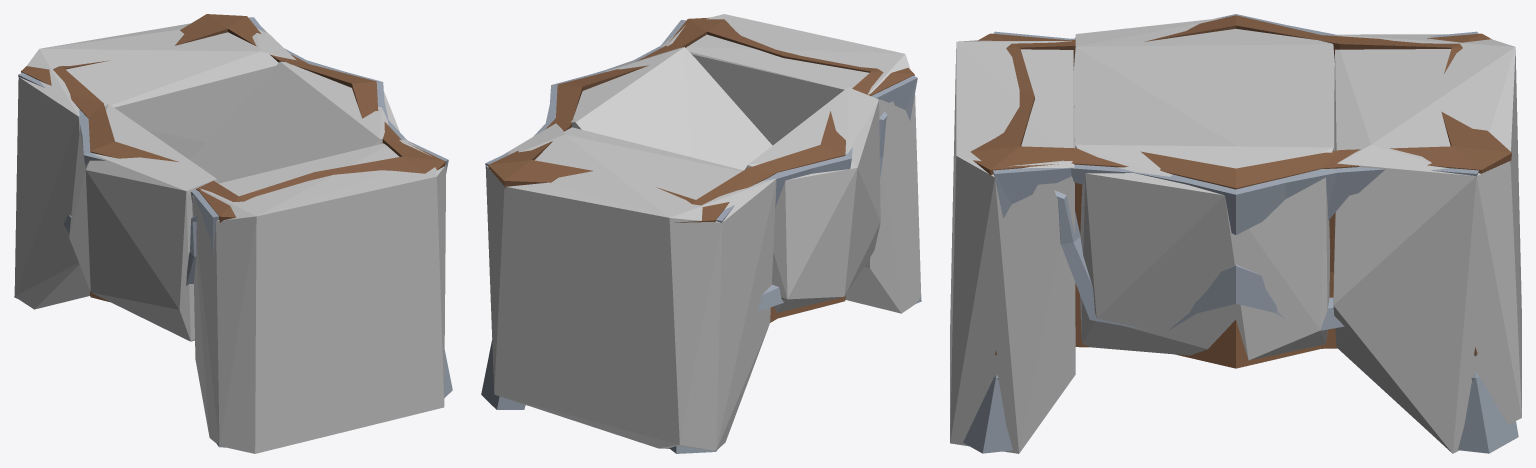
File: SM_Prop_Jewellery_Box_01.fbx
The picture shows the model from 3 angles, left to right: view 1: azimuth 30°, elevation 25°; view 2: azimuth 150°, elevation 25°; view 3: azimuth 270°, elevation 25°; orthographic projection. The views are drawn at different scales.
Parts seen in each view (by area): view 1: SM_Prop_Jewellery_Box_01_ConvexHulls, SM_Prop_Jewellery_Box_01; view 2: SM_Prop_Jewellery_Box_01_ConvexHulls, SM_Prop_Jewellery_Box_01; view 3: SM_Prop_Jewellery_Box_01_ConvexHulls, SM_Prop_Jewellery_Box_01.
Boxes of the visible parts, x1,y1,x2,y2 form: SM_Prop_Jewellery_Box_01_ConvexHulls: (14,23,446,453); SM_Prop_Jewellery_Box_01: (14,14,452,447); SM_Prop_Jewellery_Box_01_ConvexHulls: (485,14,921,450); SM_Prop_Jewellery_Box_01: (481,17,921,453); SM_Prop_Jewellery_Box_01_ConvexHulls: (950,17,1521,453); SM_Prop_Jewellery_Box_01: (963,14,1518,453).
Bounding box in the file's own units: 22.88 × 30.39 × 17.06.
2 materials, 1 textured.
